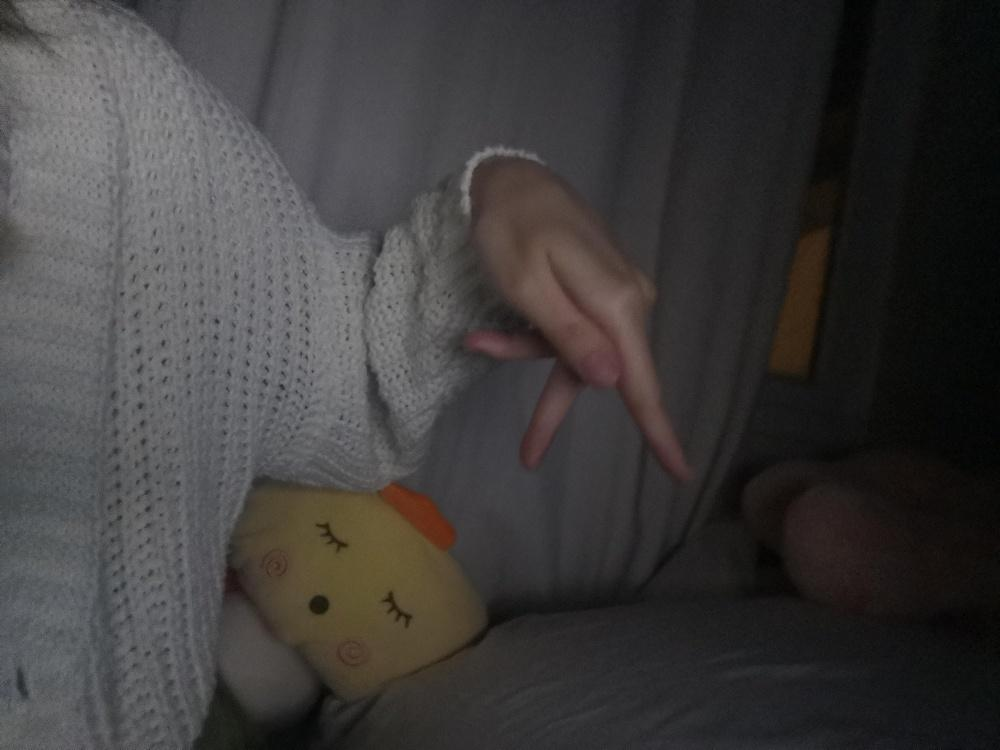p: (455, 147, 699, 490)
